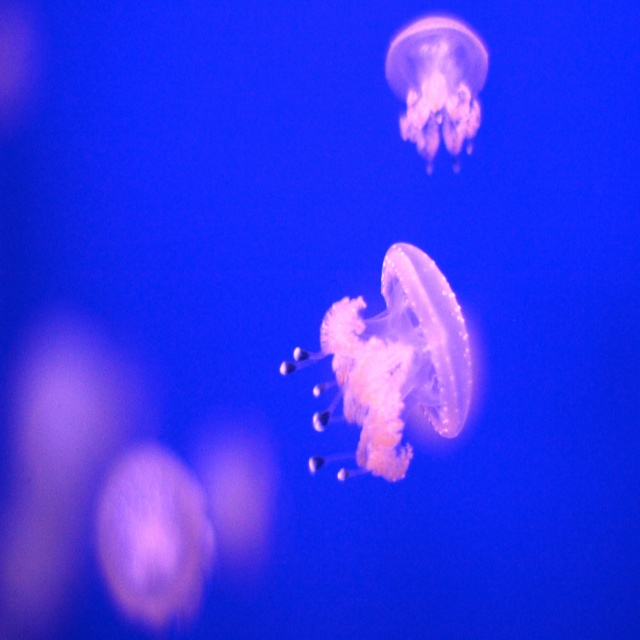Jellyfish: (288, 232, 477, 506), (382, 14, 490, 177)
